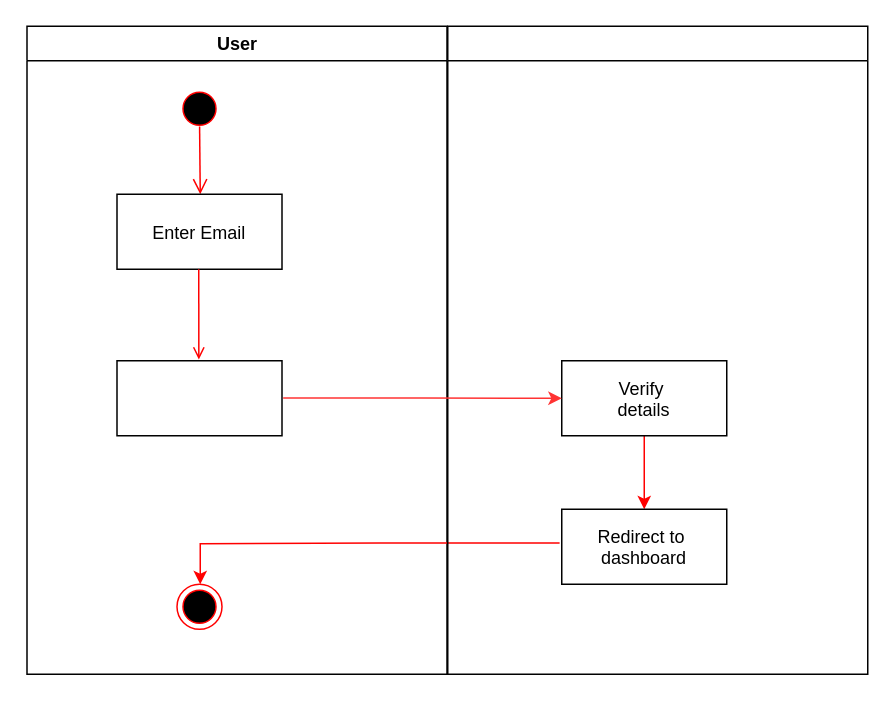
This 894x701 diagram has some shape labels left out. Each missing label, with the box of its shape:
Enter Password: (116, 359, 282, 436)
Server: (446, 25, 868, 674)
